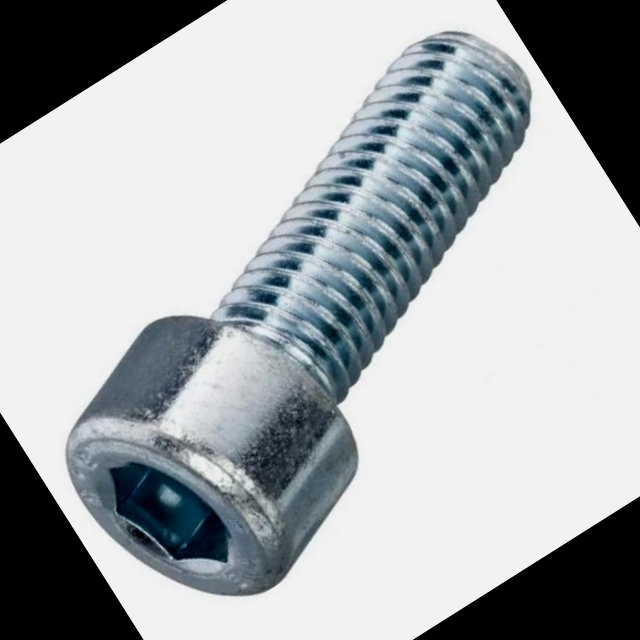allen: (45, 366, 304, 640)
